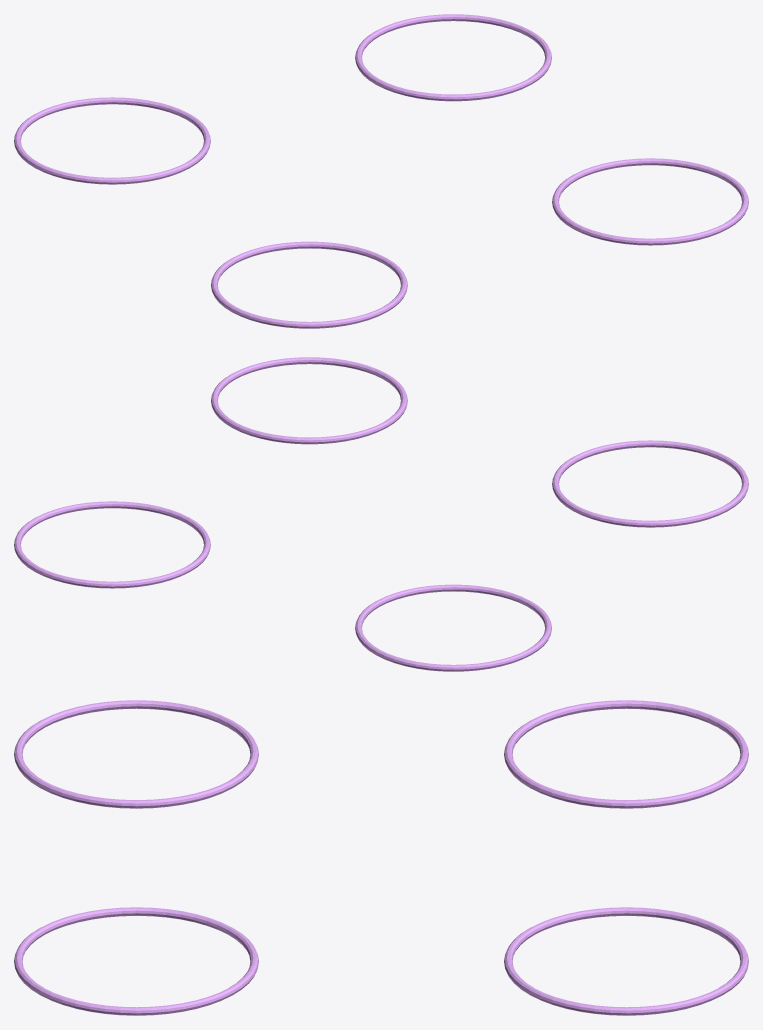
File: ChocolateFactory_Lighting.fbx
The picture shows the model from 3 angles, top to bottom: view 1: azimuth 30°, elevation 25°; view 2: azimuth 150°, elevation 25°; view 3: azimuth 270°, elevation 25°; orthographic projection. The views are drawn at different scales.
Parts seen in each view (by area): view 1: CHO_SmallTank_Rune, CHO_SmallTank_Rune_03, CHO_SmallTank_Rune_01, CHO_SmallTank_Rune_02; view 2: CHO_SmallTank_Rune_01, CHO_SmallTank_Rune_02, CHO_SmallTank_Rune, CHO_SmallTank_Rune_03; view 3: CHO_SmallTank_Rune, CHO_SmallTank_Rune_01, CHO_SmallTank_Rune_02, CHO_SmallTank_Rune_03.
Part boxes in pixels (<box>): CHO_SmallTank_Rune: <box>552,158,748,245</box>; CHO_SmallTank_Rune_03: <box>14,97,210,184</box>; CHO_SmallTank_Rune_01: <box>211,241,407,328</box>; CHO_SmallTank_Rune_02: <box>355,14,551,101</box>; CHO_SmallTank_Rune_01: <box>552,440,748,527</box>; CHO_SmallTank_Rune_02: <box>14,501,210,588</box>; CHO_SmallTank_Rune: <box>211,357,407,444</box>; CHO_SmallTank_Rune_03: <box>355,584,551,671</box>; CHO_SmallTank_Rune: <box>14,907,258,1015</box>; CHO_SmallTank_Rune_01: <box>14,700,258,808</box>; CHO_SmallTank_Rune_02: <box>504,907,748,1015</box>; CHO_SmallTank_Rune_03: <box>504,700,748,808</box>.
Bounding box in the file's own units: 51 × 0.5706 × 51.
